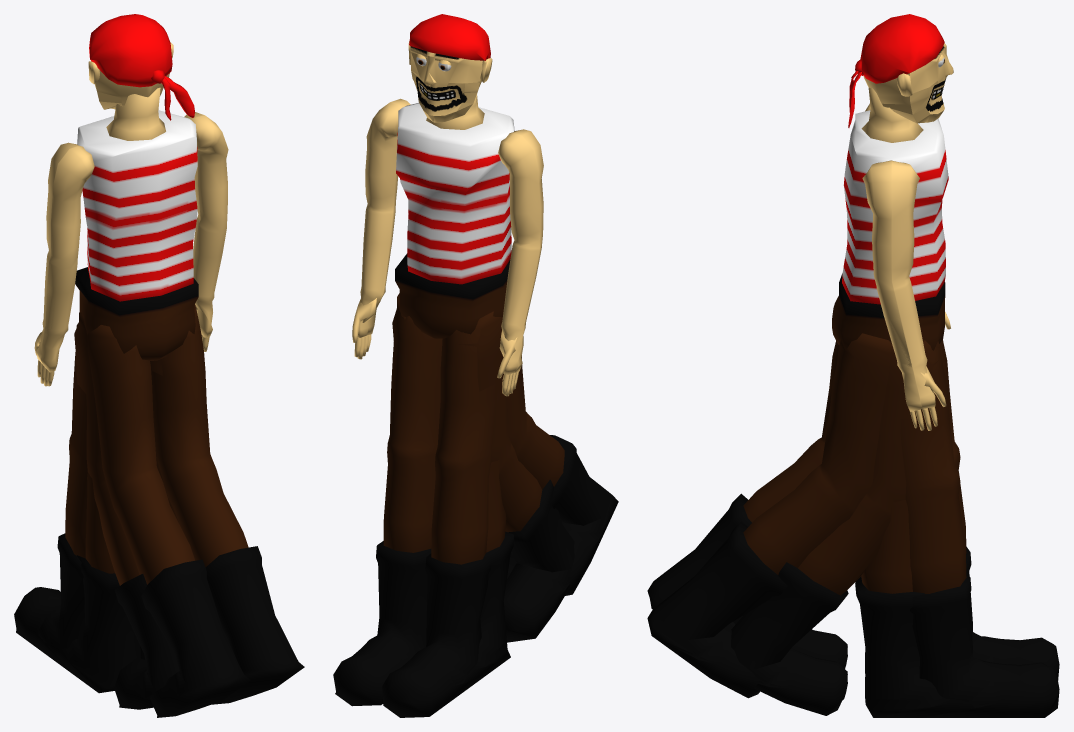
Rendered from pirate_walk.fbx.
3 views of the same model, side by side, from view 1: azimuth 30°, elevation 25°; view 2: azimuth 150°, elevation 25°; view 3: azimuth 270°, elevation 25° (orthographic). The views are drawn at different scales.
Visible parts, largest first — view 1: Regroup14, Regroup13, Regroup16, Regroup15; view 2: Regroup14, Regroup13, Regroup16, Regroup15; view 3: Regroup14, Regroup13, Regroup16, Regroup15.
Part boxes in pixels (left/top/right/bottom): Regroup14: left=14, top=15, right=304, bottom=704; Regroup13: left=35, top=15, right=227, bottom=709; Regroup16: left=34, top=17, right=250, bottom=717; Regroup15: left=36, top=14, right=224, bottom=693; Regroup14: left=352, top=17, right=543, bottom=717; Regroup13: left=352, top=14, right=574, bottom=664; Regroup16: left=333, top=14, right=618, bottom=706; Regroup15: left=354, top=14, right=540, bottom=684; Regroup14: left=647, top=14, right=1059, bottom=698; Regroup13: left=733, top=14, right=996, bottom=717; Regroup16: left=647, top=15, right=1059, bottom=717; Regroup15: left=731, top=14, right=993, bottom=715.
Size of the model in its own units: 4.49 by 15.95 by 8.82.
Materials: 1 (1 with a texture image).
